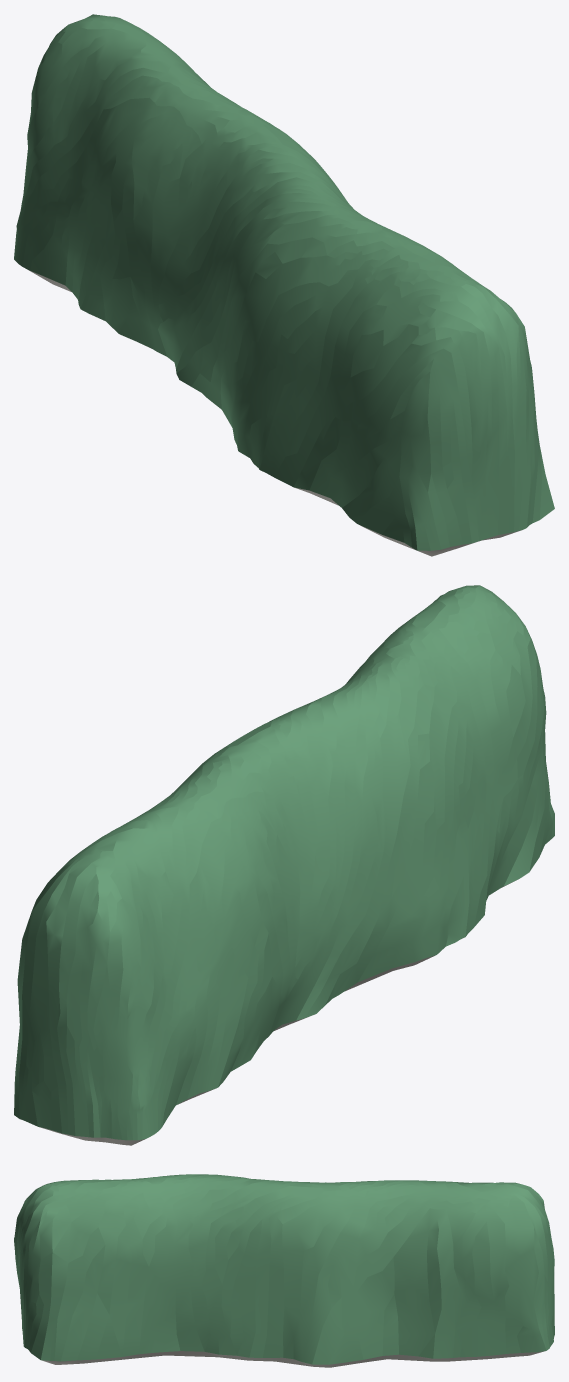
File: island_asian_M.fbx
3 views of the same model, one above another, from view 1: azimuth 30°, elevation 25°; view 2: azimuth 150°, elevation 25°; view 3: azimuth 270°, elevation 25° (orthographic). The views are drawn at different scales.
Parts seen in each view (by area): view 1: island_asian_M; view 2: island_asian_M; view 3: island_asian_M.
Boxes of the visible parts, <box> form: island_asian_M: <box>14,14,554,556</box>; island_asian_M: <box>14,585,554,1145</box>; island_asian_M: <box>14,1174,554,1367</box>.
Size of the model in its own units: 2189 by 2742 by 8245.
